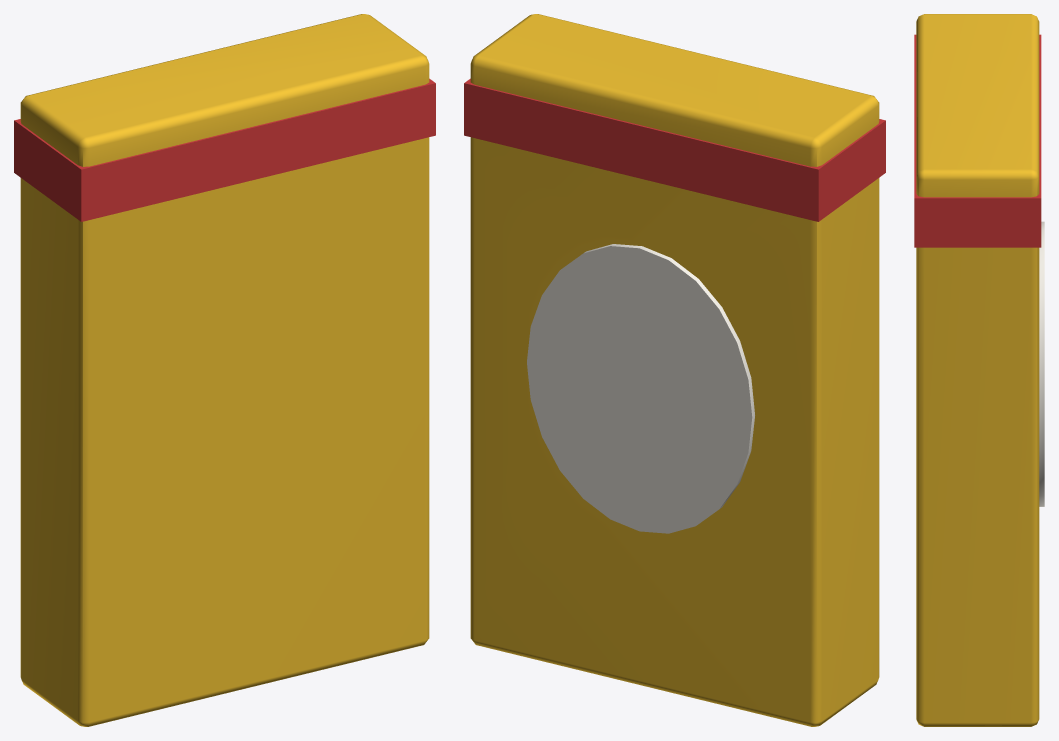
The model's file is cereal_box.glb.
The picture shows the model from 3 angles, left to right: view 1: azimuth 30°, elevation 25°; view 2: azimuth 150°, elevation 25°; view 3: azimuth 270°, elevation 25°; orthographic projection. The views are drawn at different scales.
Parts seen in each view (by area): view 1: cereal_box; view 2: cereal_box; view 3: cereal_box.
Boxes of the visible parts, <box> form: cereal_box: <box>14,14,435,726</box>; cereal_box: <box>464,14,885,726</box>; cereal_box: <box>914,14,1044,726</box>.
Size of the model in its own units: 0.0566 by 0.09 by 0.0191.
